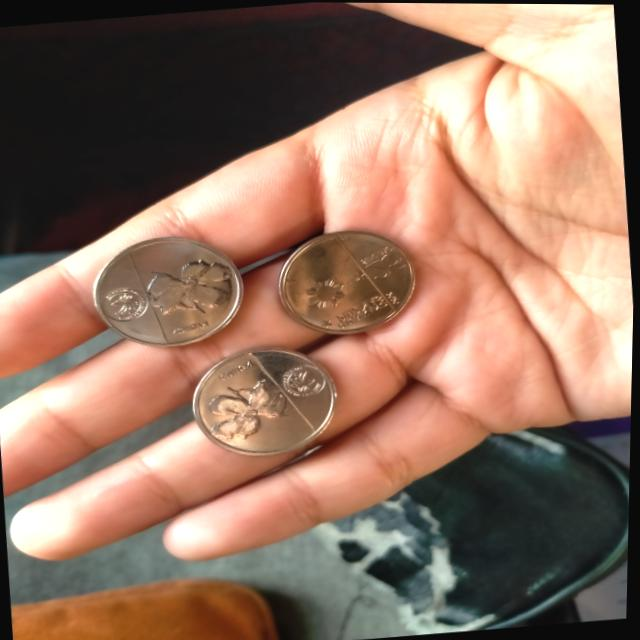25Cent_New_Back: (127, 242, 243, 328), (200, 372, 304, 443)
25Cent_New_Front: (347, 238, 420, 298)
